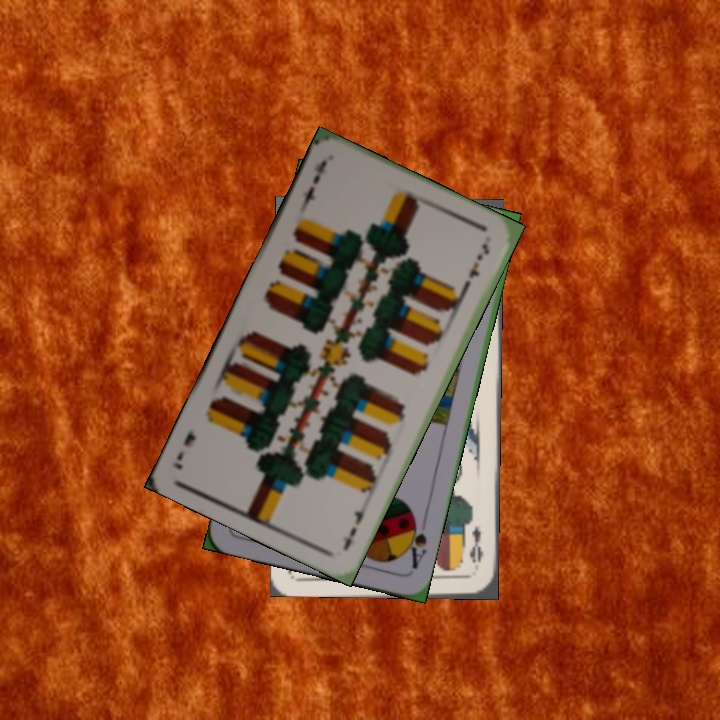E7: (296, 156, 330, 212), (339, 498, 371, 555)
EO: (465, 522, 486, 566)
SA: (400, 512, 430, 572)
